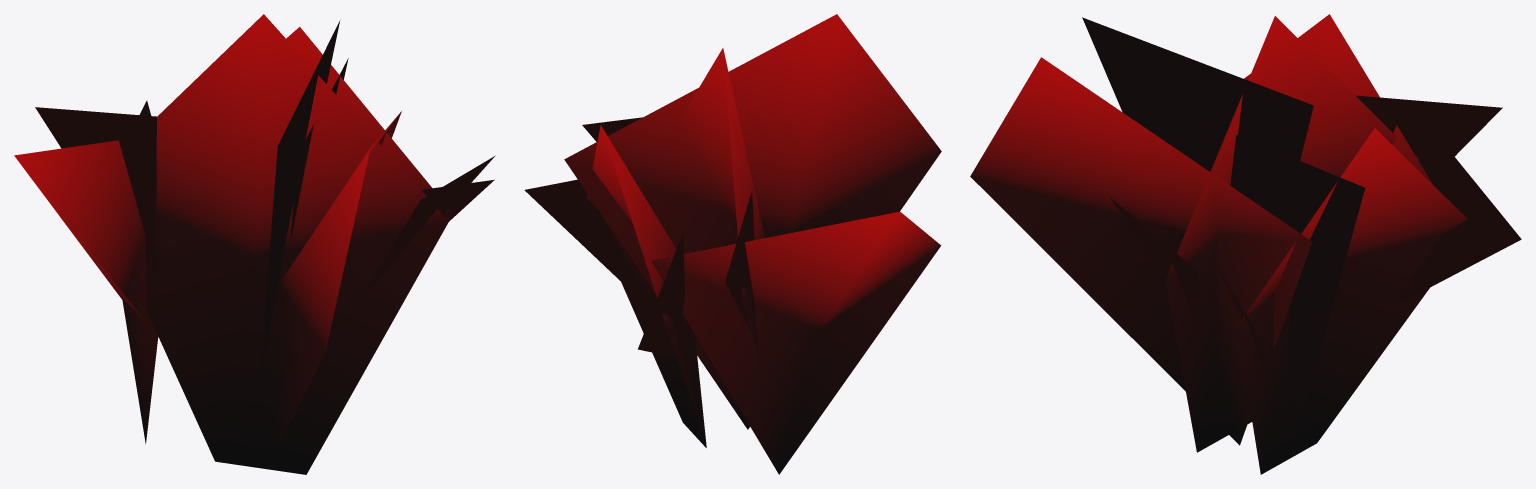
Rendered from Gorse2.fbx.
3 views of the same model, side by side, from view 1: azimuth 30°, elevation 25°; view 2: azimuth 150°, elevation 25°; view 3: azimuth 270°, elevation 25° (orthographic). The views are drawn at different scales.
Visible parts, largest first — view 1: Gorse2; view 2: Gorse2; view 3: Gorse2.
Boxes of the visible parts, <box> form: Gorse2: <box>14,14,495,474</box>; Gorse2: <box>524,14,941,474</box>; Gorse2: <box>970,14,1521,474</box>.
Size of the model in its own units: 46.45 by 42.93 by 49.3.
